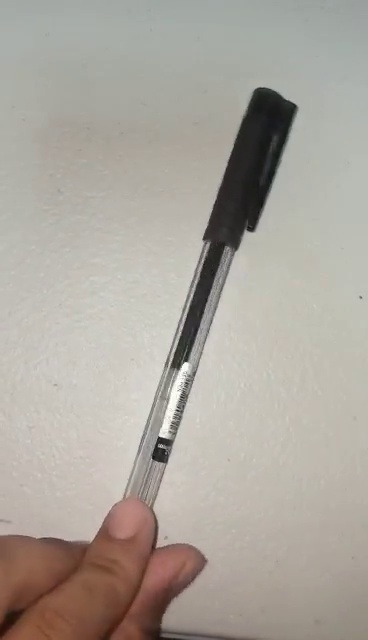ballpen: (123, 87, 299, 522)
hand: (1, 499, 209, 640)
